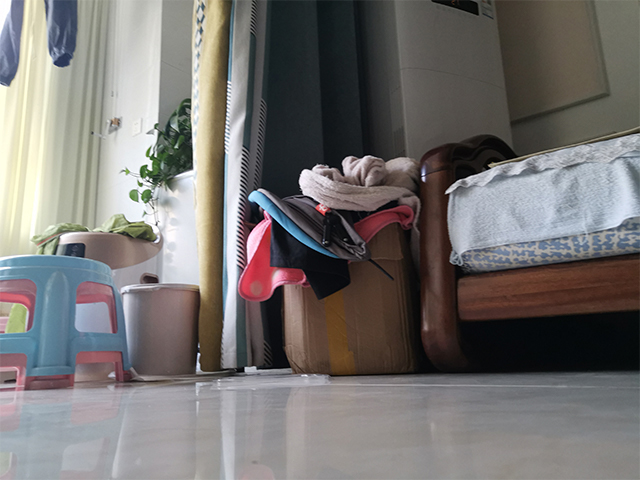curtain: (188, 1, 369, 377)
sofa: (415, 129, 640, 377)
stool: (1, 251, 136, 392)
trashcan: (117, 280, 200, 379)
